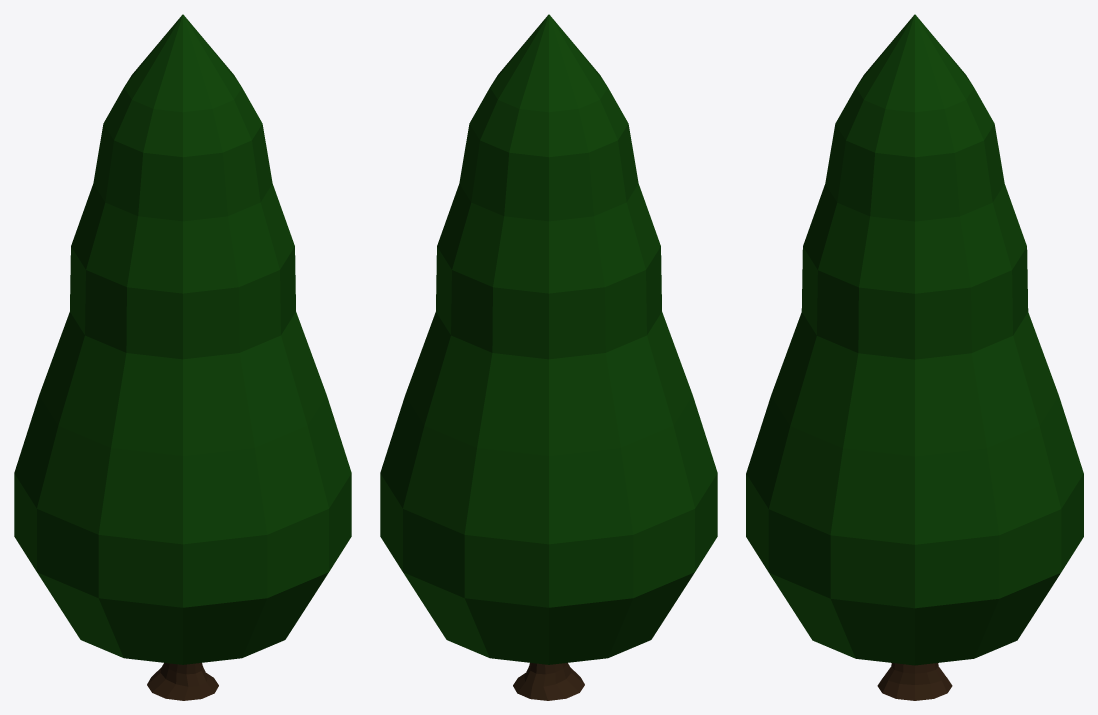
The model's file is tree2.fbx.
3 views of the same model, side by side, from view 1: azimuth 30°, elevation 25°; view 2: azimuth 150°, elevation 25°; view 3: azimuth 270°, elevation 25° (orthographic).
Parts seen in each view (by area): view 1: Tree; view 2: Tree; view 3: Tree.
Boxes of the visible parts, x1=… form: Tree: x1=14, y1=14, x2=351, y2=700; Tree: x1=380, y1=14, x2=717, y2=700; Tree: x1=746, y1=14, x2=1083, y2=700.
Bounding box in the file's own units: 563 × 1235 × 563.
